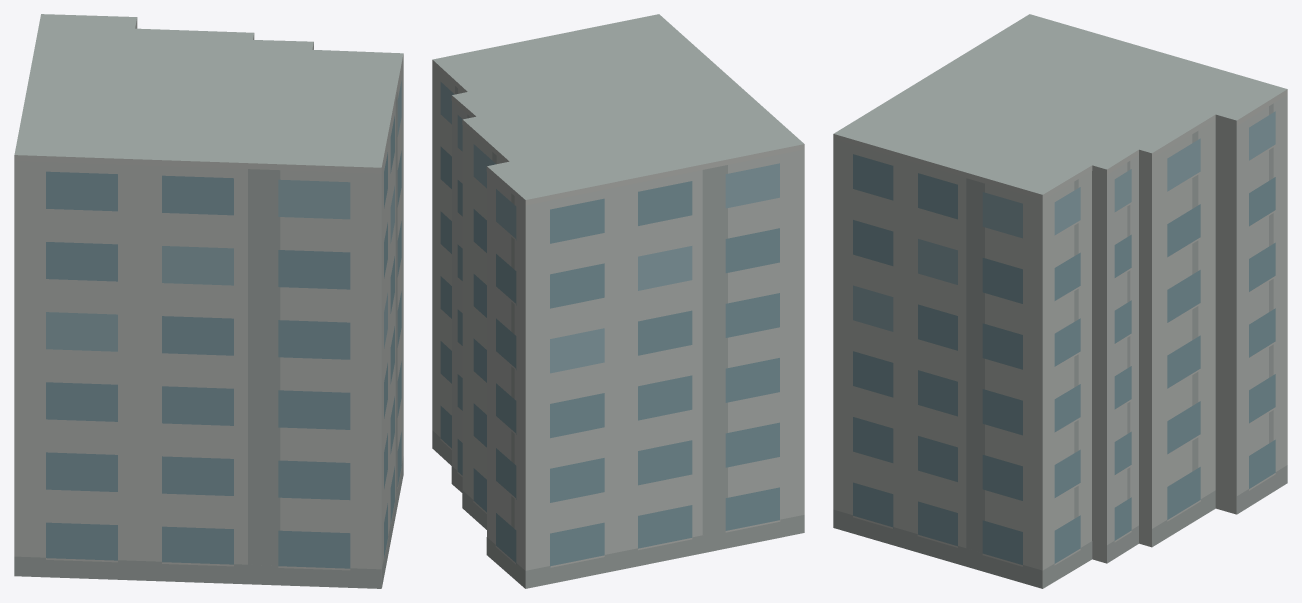
File: survey-upis-33027089.glb
3 views of the same model, side by side, from view 1: azimuth 30°, elevation 25°; view 2: azimuth 150°, elevation 25°; view 3: azimuth 270°, elevation 25° (orthographic). The views are drawn at different scales.
Parts seen in each view (by area): view 1: survey-upis-33027089.tmp; view 2: survey-upis-33027089.tmp; view 3: survey-upis-33027089.tmp.
Part boxes in pixels (x1,y1,x2,y2): survey-upis-33027089.tmp: [14, 14, 403, 588]; survey-upis-33027089.tmp: [432, 14, 804, 588]; survey-upis-33027089.tmp: [833, 14, 1287, 588].
Size of the model in its own units: 16.99 by 17.25 by 18.03.
